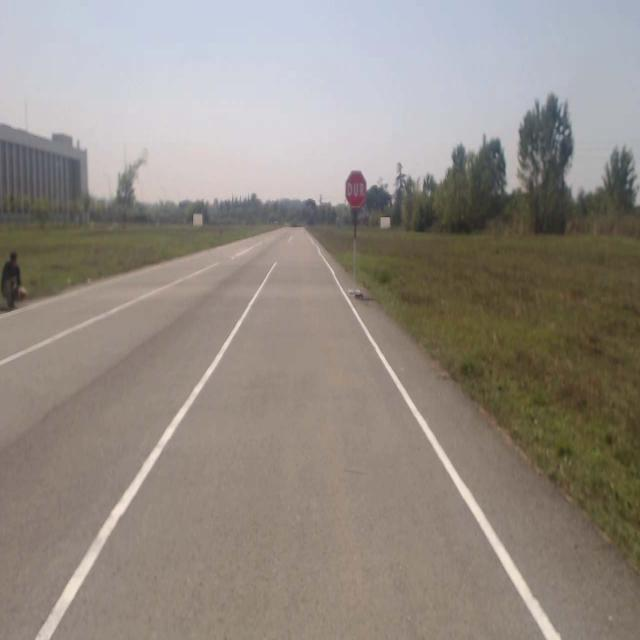dur: (346, 171, 366, 208)
